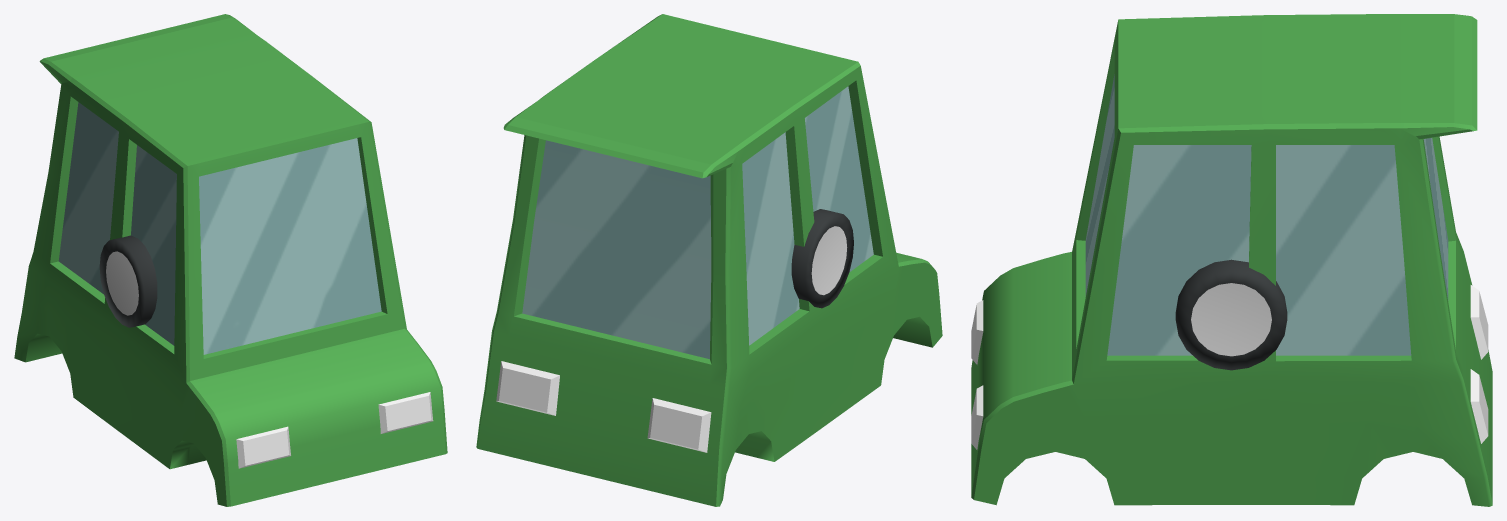
File: car_6_G.fbx
3 views of the same model, side by side, from view 1: azimuth 30°, elevation 25°; view 2: azimuth 150°, elevation 25°; view 3: azimuth 270°, elevation 25° (orthographic). The views are drawn at different scales.
Parts seen in each view (by area): view 1: car_6_chasis_G, car_6_right_wheel_G, car_6_back_wheel_G; view 2: car_6_chasis_G, car_6_right_wheel_G; view 3: car_6_chasis_G, car_6_back_wheel_G, car_6_left_wheel_G.
Boxes of the visible parts, x1,y1,x2,y2 form: car_6_chasis_G: [14, 14, 447, 506]; car_6_right_wheel_G: [99, 235, 157, 327]; car_6_back_wheel_G: [113, 239, 157, 326]; car_6_chasis_G: [476, 14, 942, 506]; car_6_right_wheel_G: [791, 209, 853, 308]; car_6_chasis_G: [971, 14, 1492, 506]; car_6_back_wheel_G: [1175, 261, 1287, 370]; car_6_left_wheel_G: [1175, 259, 1287, 315].
Size of the model in its own units: 98.97 by 126 by 161.
